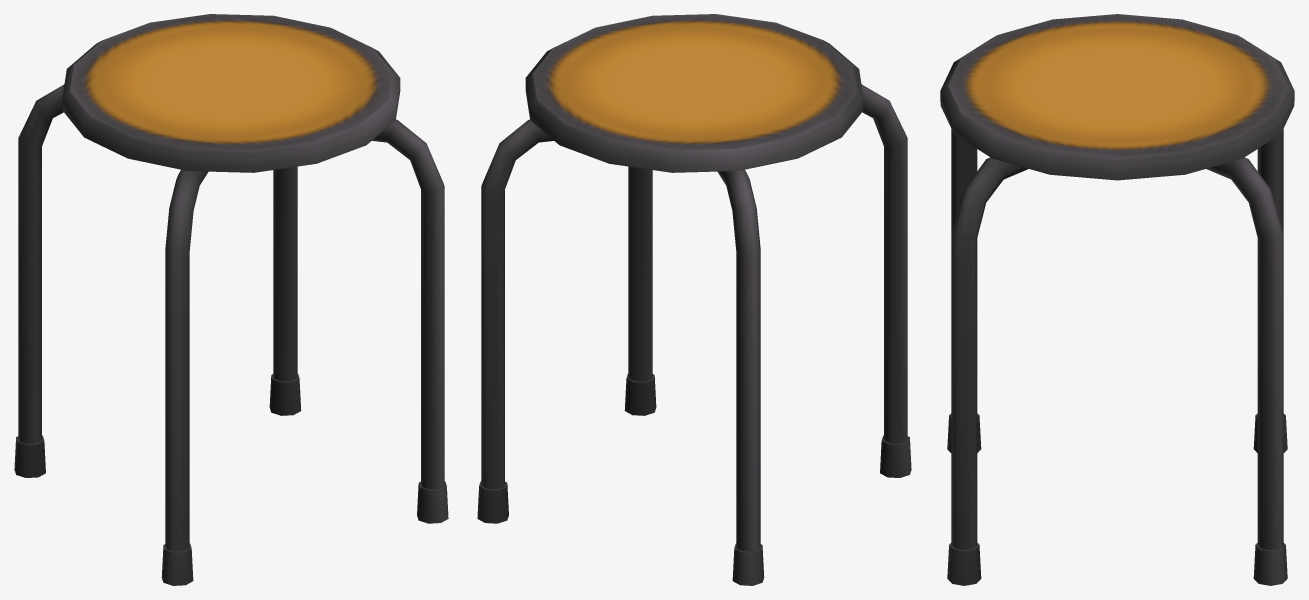
The model's file is jsf_Chair_06.fbx.
3 views of the same model, side by side, from view 1: azimuth 30°, elevation 25°; view 2: azimuth 150°, elevation 25°; view 3: azimuth 270°, elevation 25° (orthographic). The views are drawn at different scales.
Visible parts, largest first — view 1: jsf_Chair_06; view 2: jsf_Chair_06; view 3: jsf_Chair_06.
Part boxes in pixels (x1,y1,x2,y2): jsf_Chair_06: (14, 14, 448, 585); jsf_Chair_06: (477, 14, 911, 585); jsf_Chair_06: (940, 14, 1294, 585).
Size of the model in its own units: 33 by 44 by 33.
